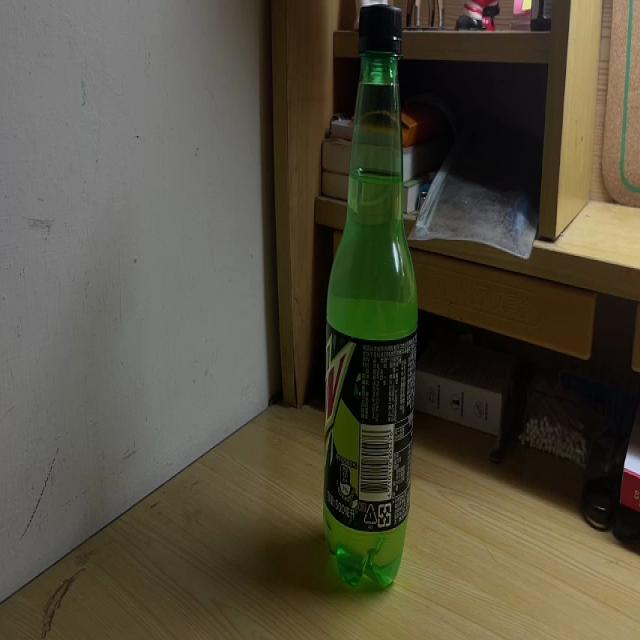Mountain-Dew: (325, 6, 417, 590)
